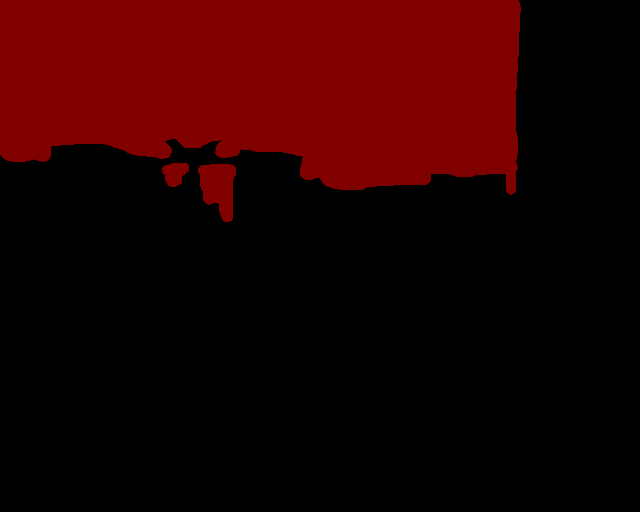Sky: (1, 1, 520, 222)
